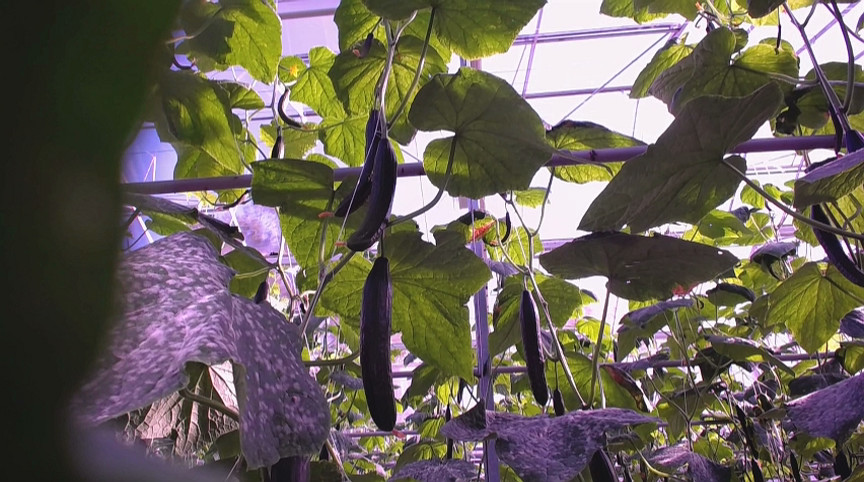cucumber: (359, 255, 397, 433), (345, 138, 396, 255), (334, 109, 382, 219), (807, 204, 864, 286), (519, 290, 550, 409)
